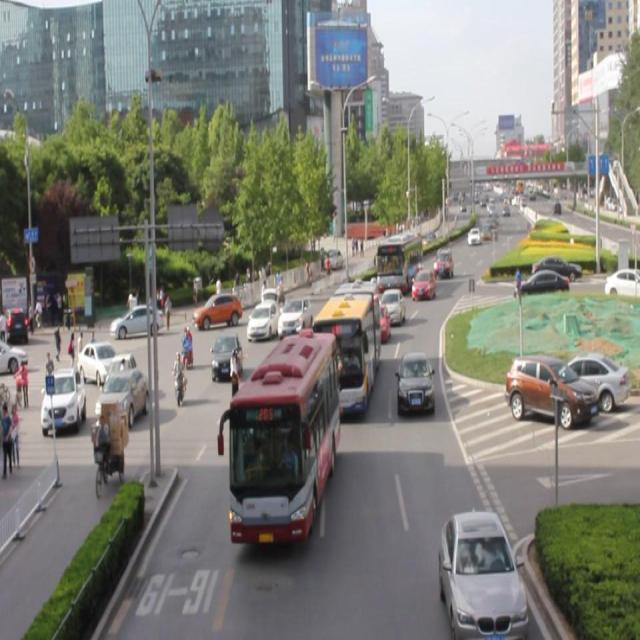car: (440, 508, 524, 633), (253, 363, 297, 423), (396, 350, 433, 412), (322, 292, 368, 340), (192, 290, 243, 330), (212, 331, 244, 378), (279, 294, 312, 338), (248, 298, 278, 340), (378, 286, 405, 326), (366, 302, 390, 343), (411, 266, 434, 298), (431, 248, 454, 279)
van: (231, 328, 333, 540), (316, 280, 376, 416), (376, 232, 419, 295)
